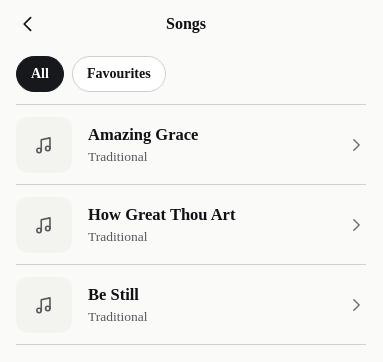
Test: SongsListScreen › favourites › says how to add a favourite when there are none, not that the church has no songs
The image size is (383, 362).
Expected: the button with test id "song-s1" is shown, [16, 105, 366, 185]
Click the button with test id "songs-filter-favourites".
click(119, 74)  # box [72, 56, 166, 92]
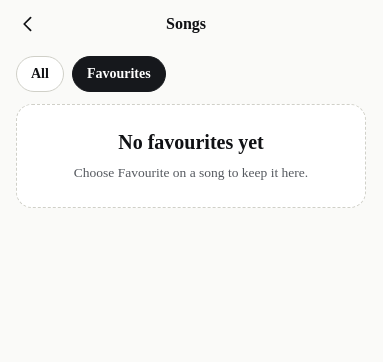
Result: the element with test id "songs-no-favourites" shows "No favourites yet" at [118, 131, 264, 153]
Result: the element with test id "songs-no-favourites" shows "Choose Favourite on a song to keep it here." at [74, 165, 308, 180]
